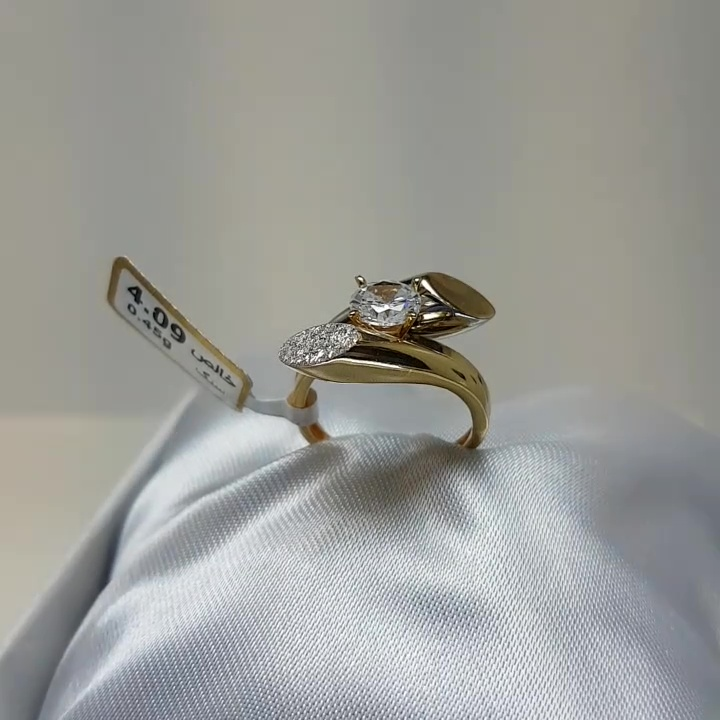Ring 7: (252, 248, 516, 470)
